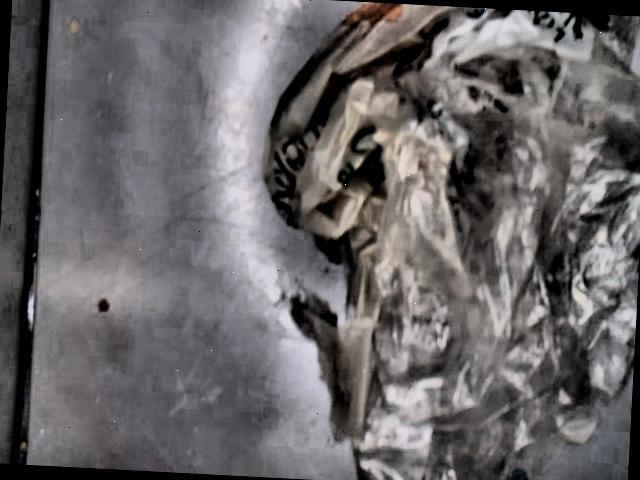Plastic: (265, 2, 640, 480)
